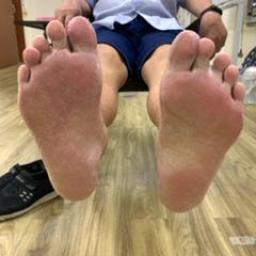Plantar View -Both Feet-: (8, 5, 250, 225)
